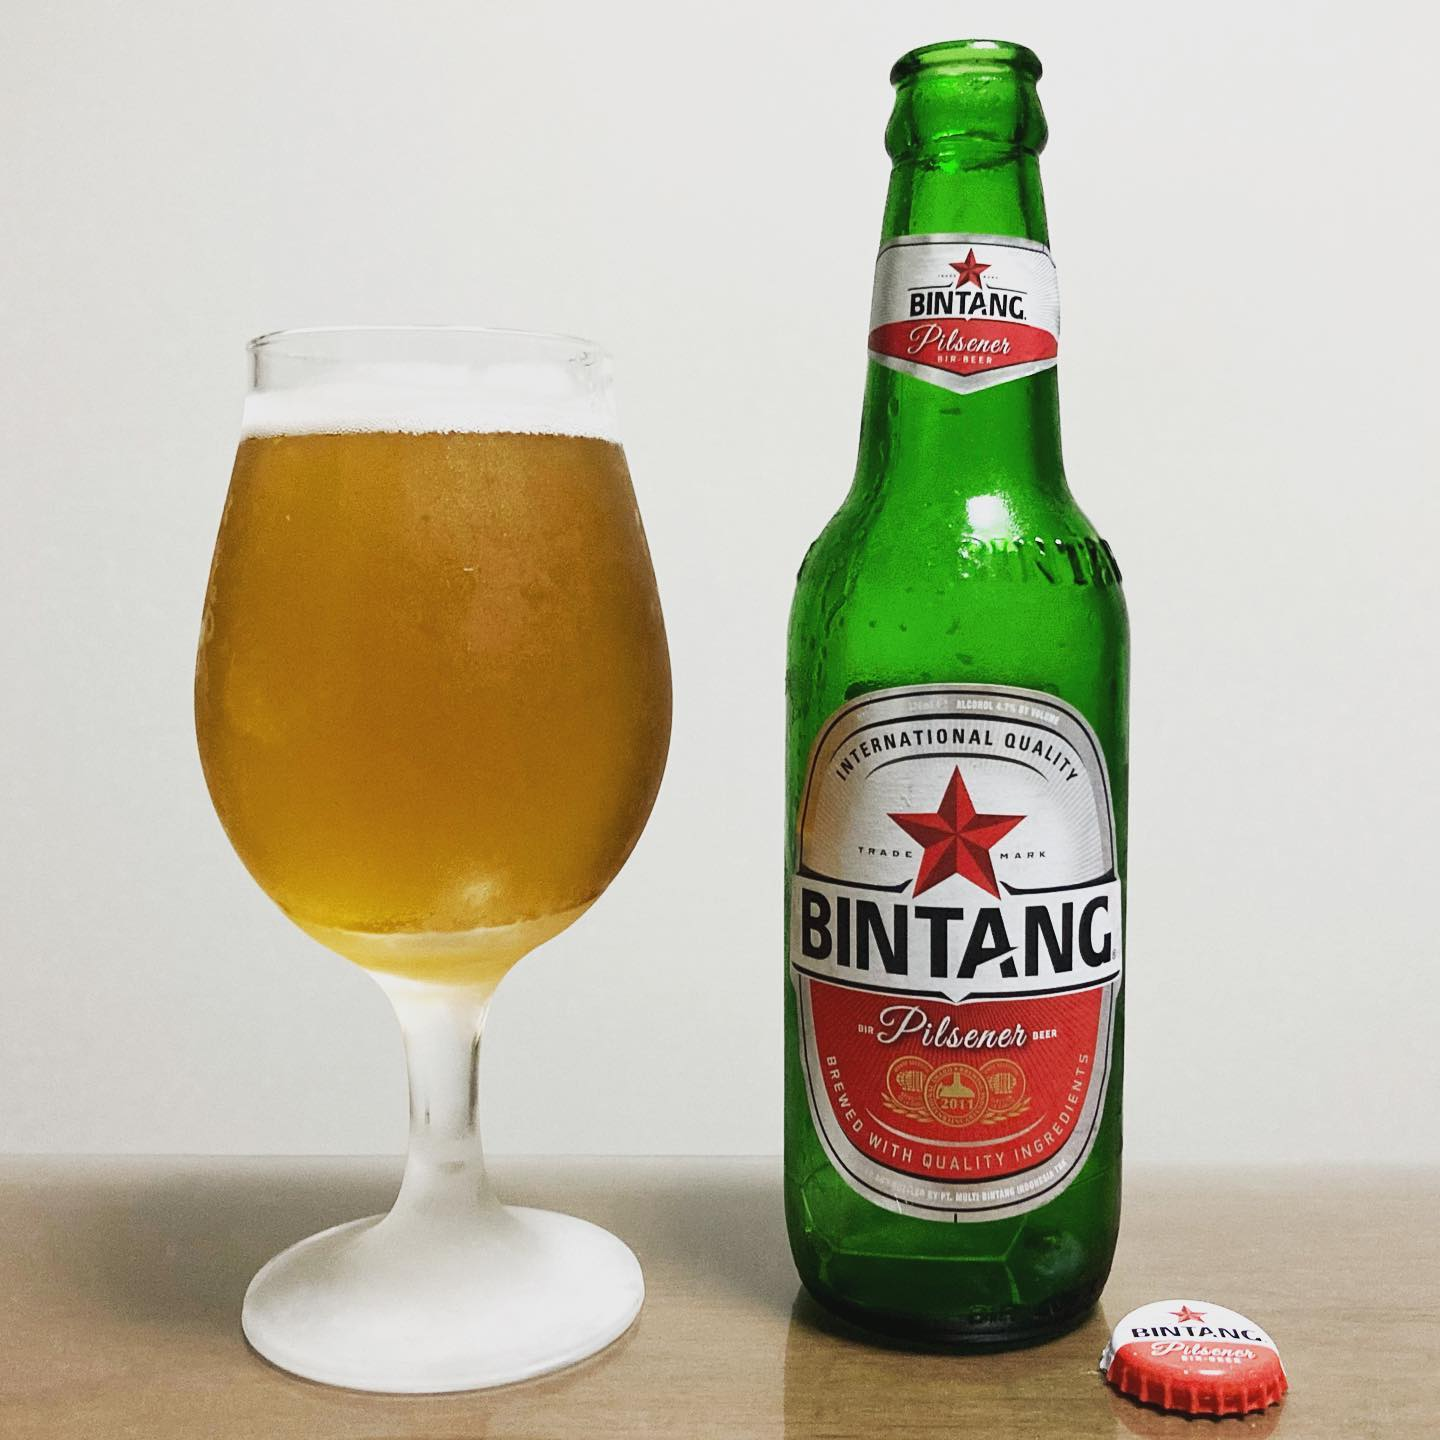alcohol: (185, 315, 683, 1404), (777, 26, 1139, 1365)
